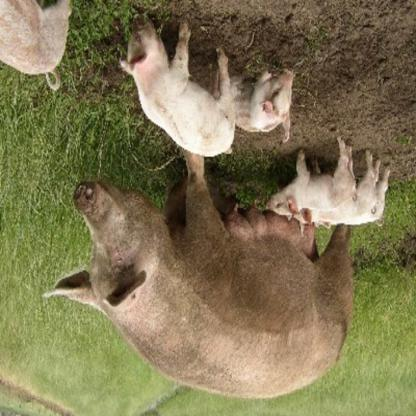boar: (44, 14, 391, 399), (0, 1, 71, 93)
